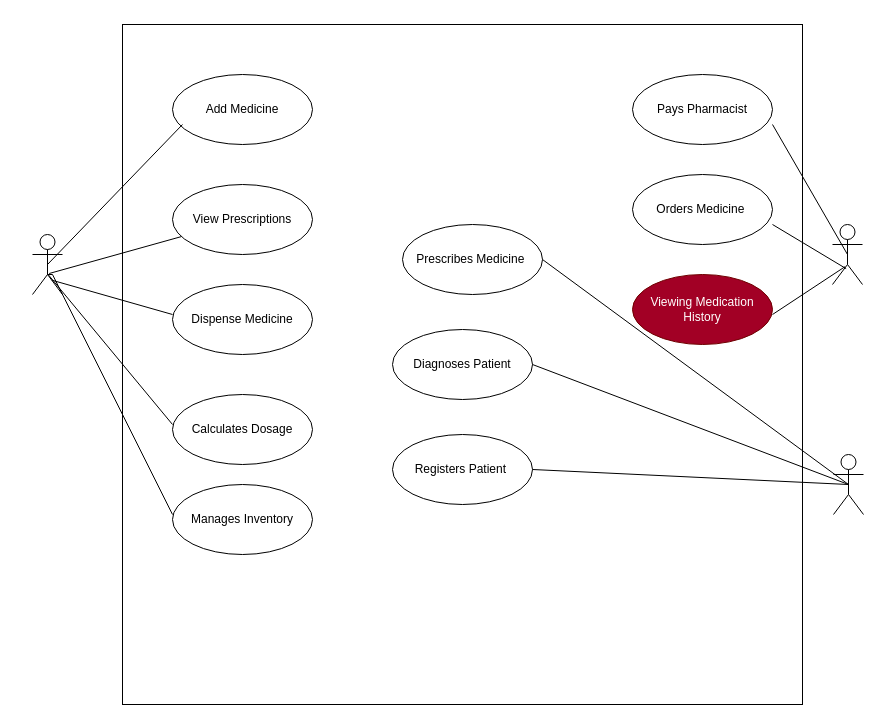
The diagram is 883 pixels wide and 722 high, and some of its shapes have lost their labels. The centre of each missing label's shape, as x and y in pixels:
"Doctor" belongs at (x=848, y=484).
"Patient" belongs at (x=847, y=254).
"Pharmacist" belongs at (x=47, y=264).
